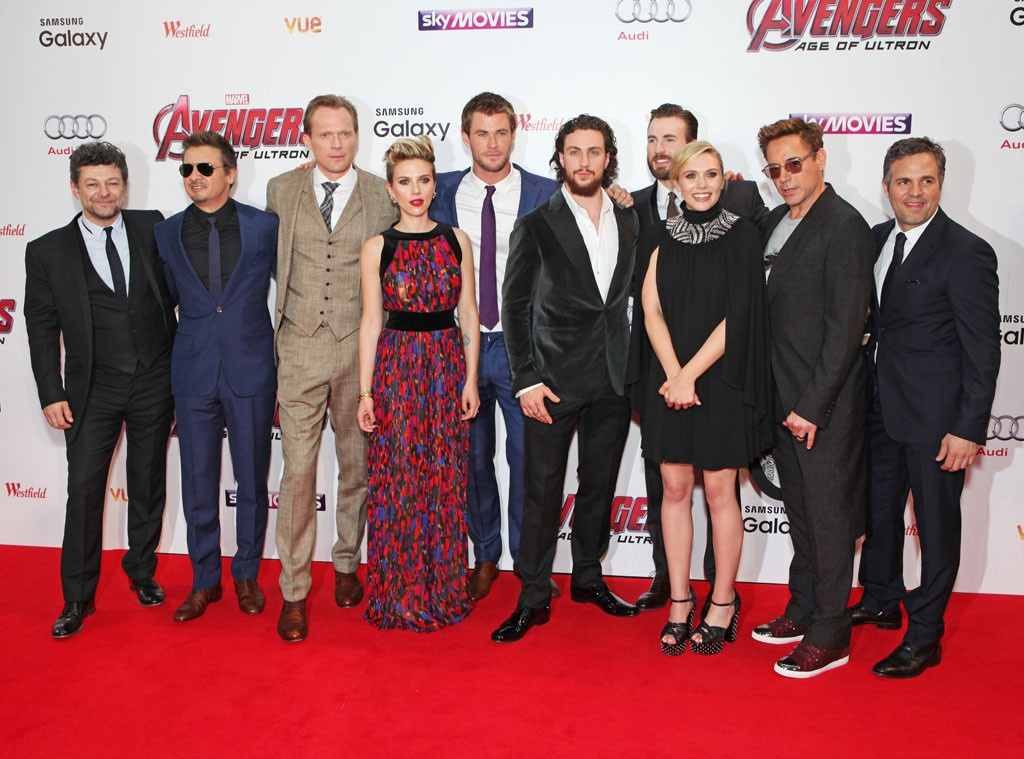bad: (170, 147, 222, 199), (890, 170, 942, 222), (757, 147, 809, 199), (640, 122, 684, 166), (467, 122, 511, 166), (314, 122, 357, 166), (79, 170, 122, 214), (391, 170, 434, 214), (679, 161, 722, 204), (564, 142, 607, 185)
